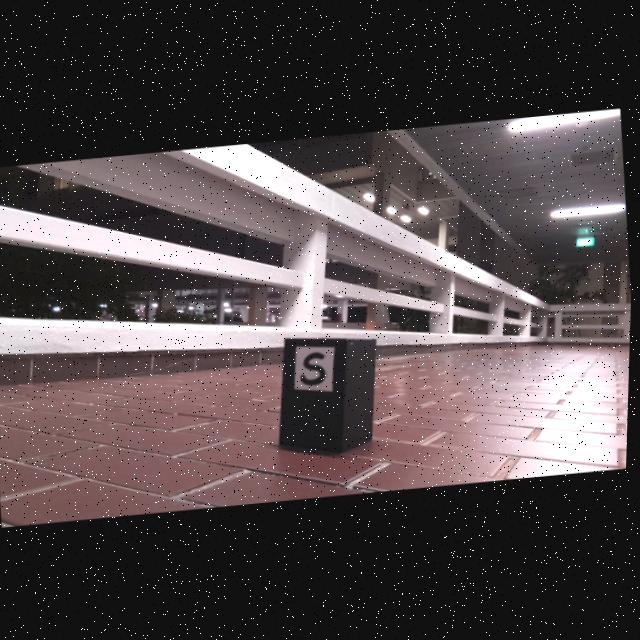S: (302, 352, 328, 385)
